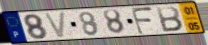8: (23, 13, 50, 40), (103, 9, 125, 36), (78, 11, 100, 37)
B: (155, 6, 185, 33)
F: (129, 6, 155, 36)
V: (43, 11, 68, 40)
